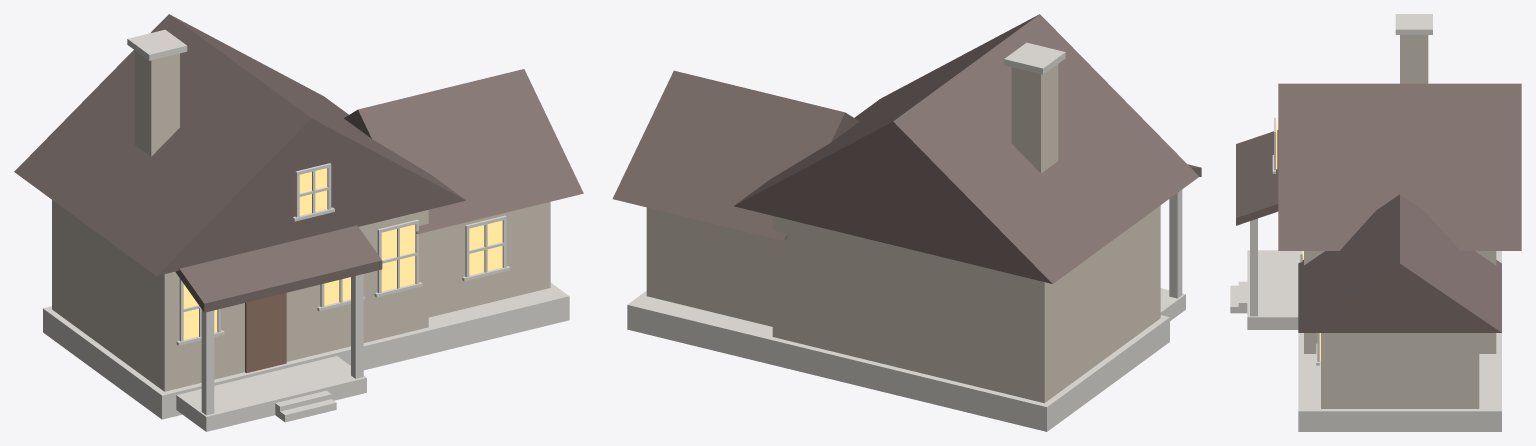
The model's file is house.glb.
3 views of the same model, side by side, from view 1: azimuth 30°, elevation 25°; view 2: azimuth 150°, elevation 25°; view 3: azimuth 270°, elevation 25° (orthographic). The views are drawn at different scales.
Visible parts, largest first — view 1: FarmHouse; view 2: FarmHouse; view 3: FarmHouse.
Boxes of the visible parts, x1,y1,x2,y2 form: FarmHouse: [14, 14, 583, 431]; FarmHouse: [612, 14, 1201, 431]; FarmHouse: [1230, 14, 1521, 431].
Size of the model in its own units: 7.65 by 5.2 by 5.15.
